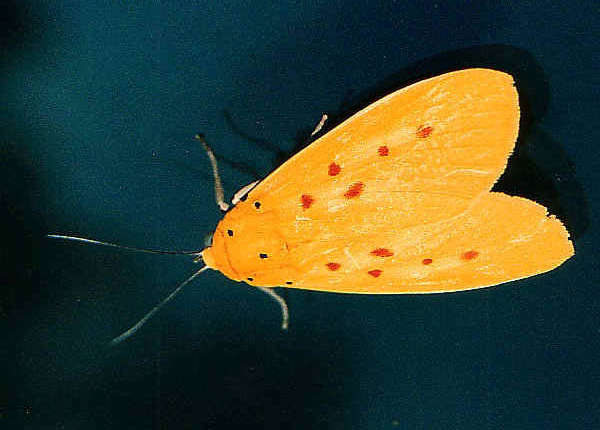Agape chloropyga: (41, 67, 575, 363)
moth: (39, 65, 573, 361)
